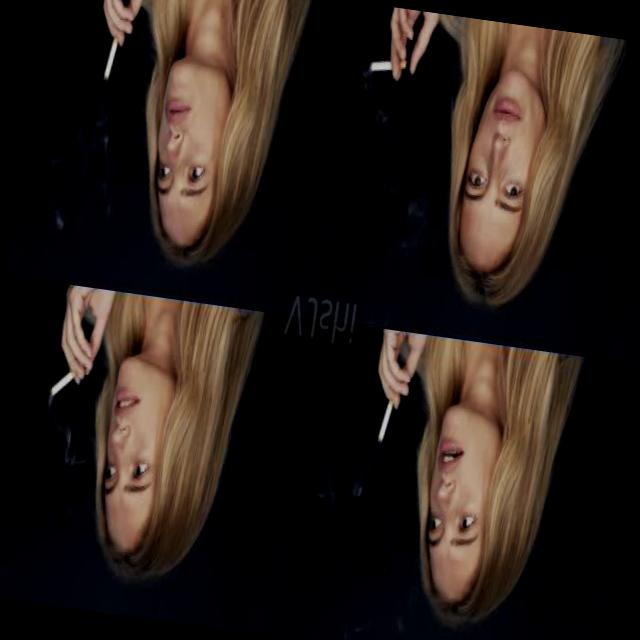smoke: (38, 340, 96, 430), (360, 36, 418, 104), (364, 374, 406, 462), (94, 13, 130, 113)
